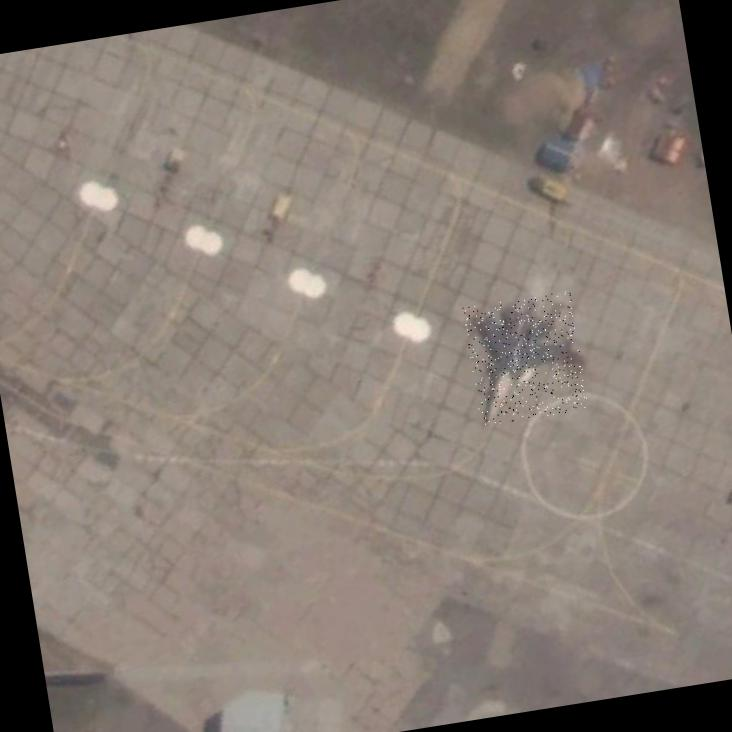A19: (462, 290, 588, 426)
